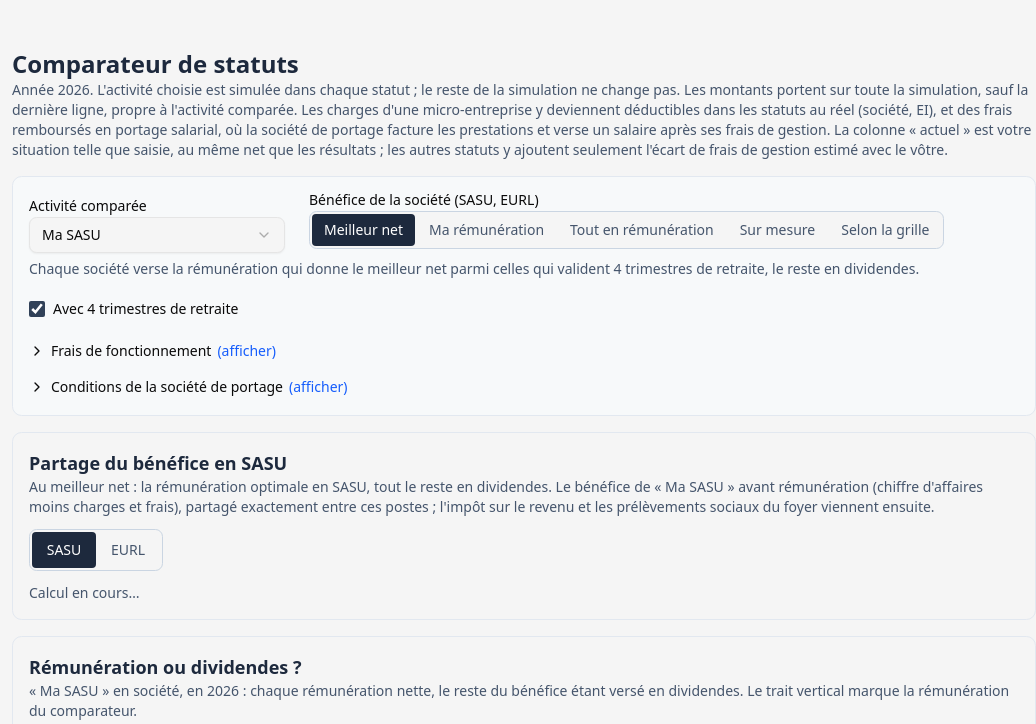
Test: modes de partage du bénéfice › décrit sous les boutons le seul mode choisi, et chaque bouton par sa phrase
This screenshot has width=1036, height=724.
Check: the radio button labelled "Meilleur net" is checked, box top-left (312, 214), bottom-right (415, 246)
Check: the text with id "comparateur-mode-choisi" shows "Chaque société verse la rémunération qui donne le meilleur net parmi celles qui valident 4 trimestres de retraite, le reste en dividendes.", box top-left (29, 259), bottom-right (919, 278)
Click the checkbox labelled "Avec 4 trimestres de retraite" at (37, 309), box top-left (29, 301), bottom-right (45, 317)
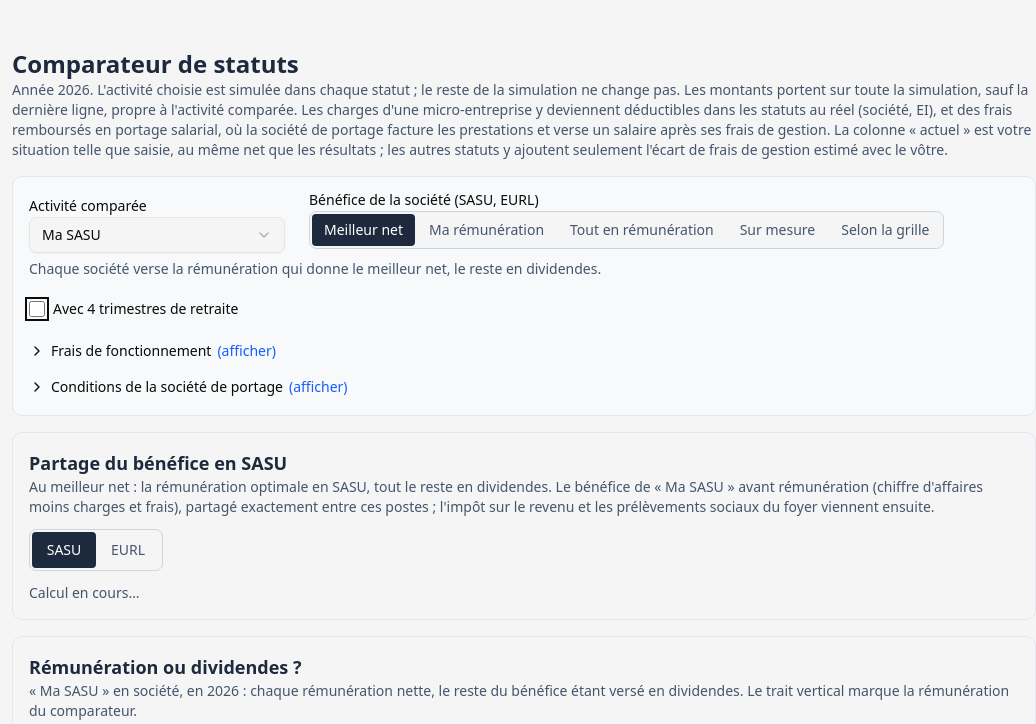
Check: the text with id "comparateur-mode-choisi" shows "Chaque société verse la rémunération qui donne le meilleur net, le reste en dividendes.", box top-left (29, 259), bottom-right (601, 278)
Click the radio button labelled "Ma rémunération" at (486, 230), box top-left (429, 220), bottom-right (544, 239)
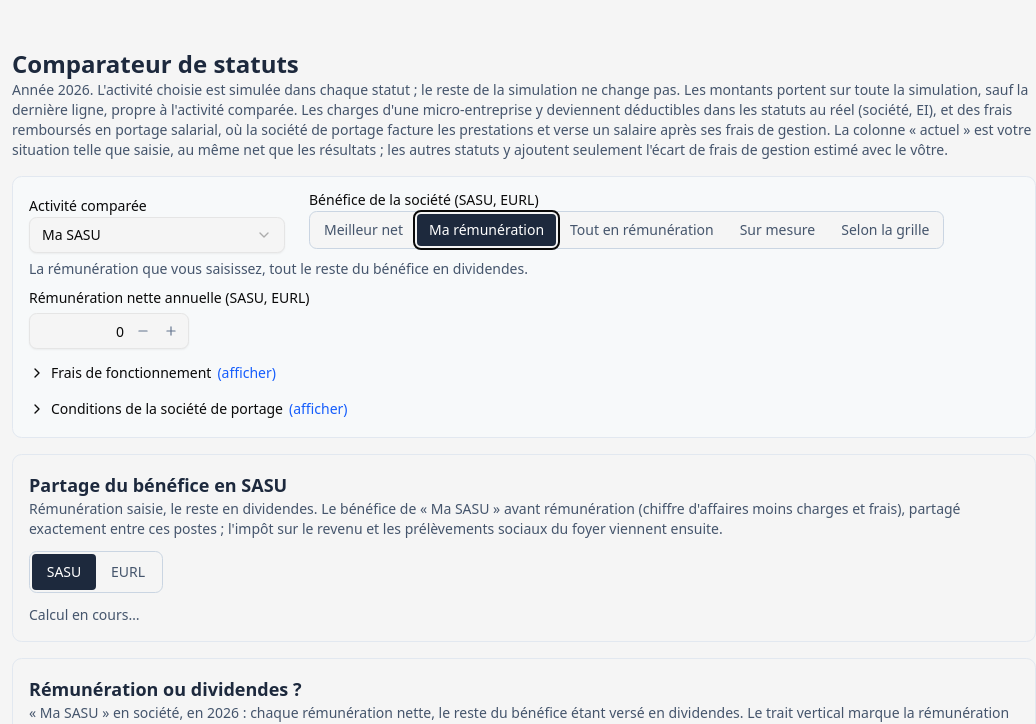
Check: the text with id "comparateur-mode-choisi" reads "La rémunération que vous saisissez, tout le reste du bénéfice en dividendes.", box top-left (29, 259), bottom-right (528, 278)
Click the radio button labelled "Sur mesure" at (777, 230), box top-left (740, 220), bottom-right (815, 239)
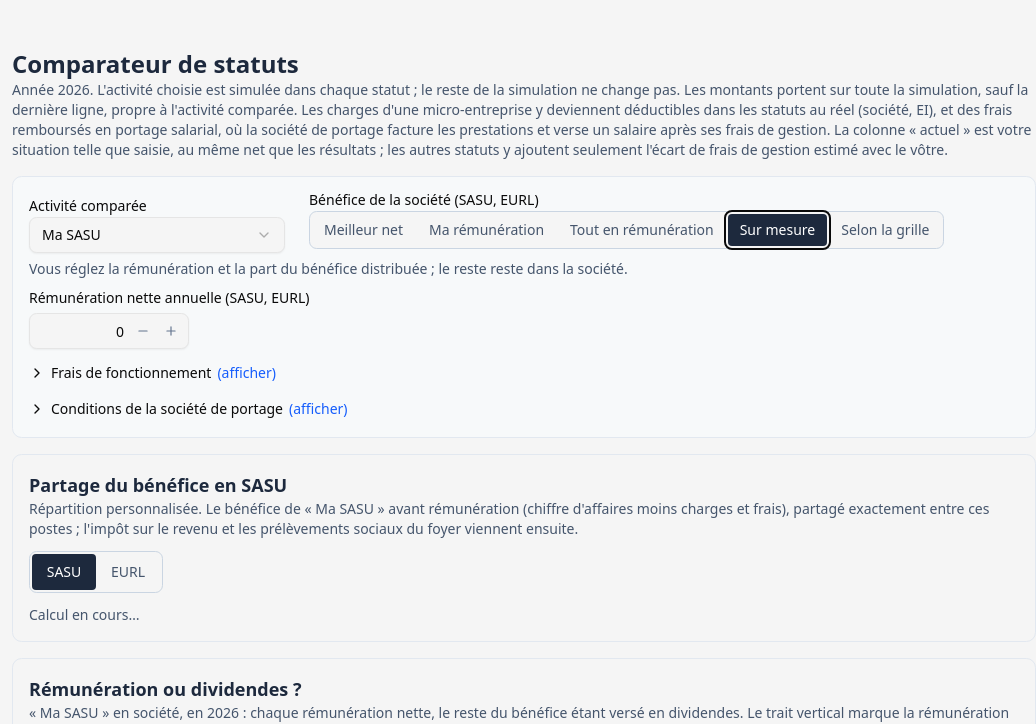
Check: the text with id "comparateur-mode-choisi" shows "Vous réglez la rémunération et la part du bénéfice distribuée", box top-left (29, 259), bottom-right (628, 278)
